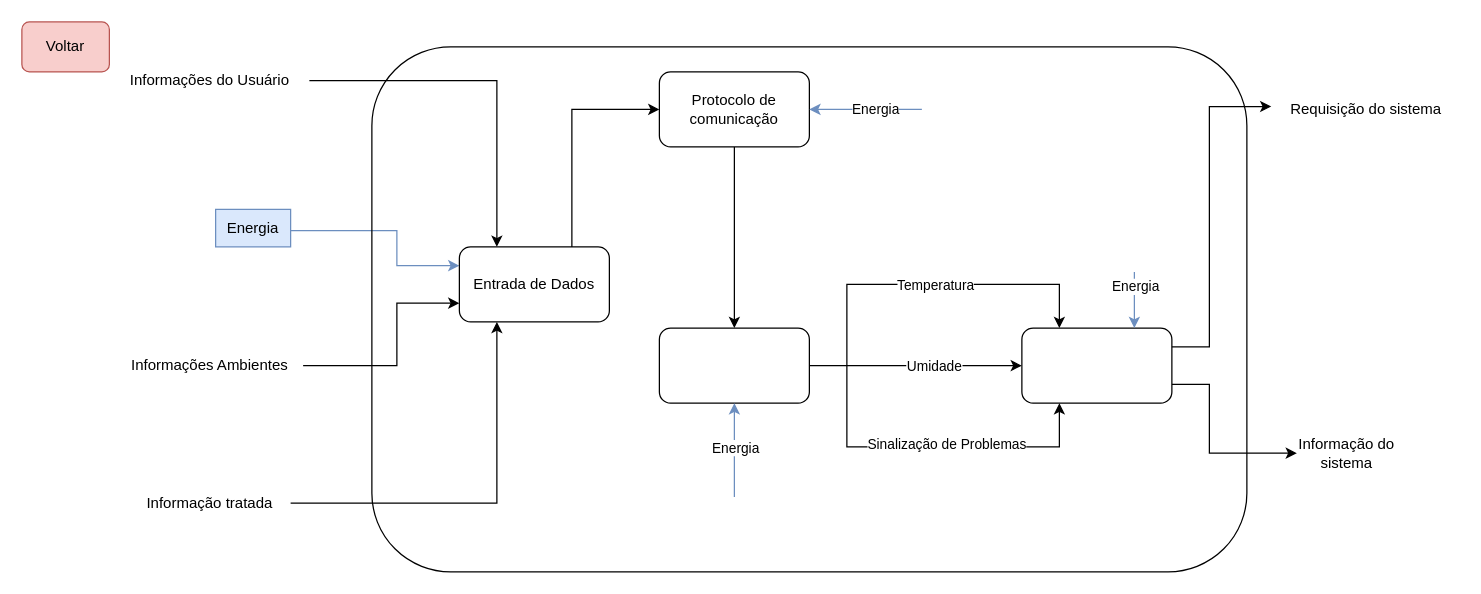
The diagram is 1481 pixels wide and 594 high, and some of its shapes have lost their labels. Here are the shapes that lost their labels. From the top down, the box of each, then its label:
(658, 327, 809, 403): Módulo de Segurança
(1021, 327, 1172, 403): Display
